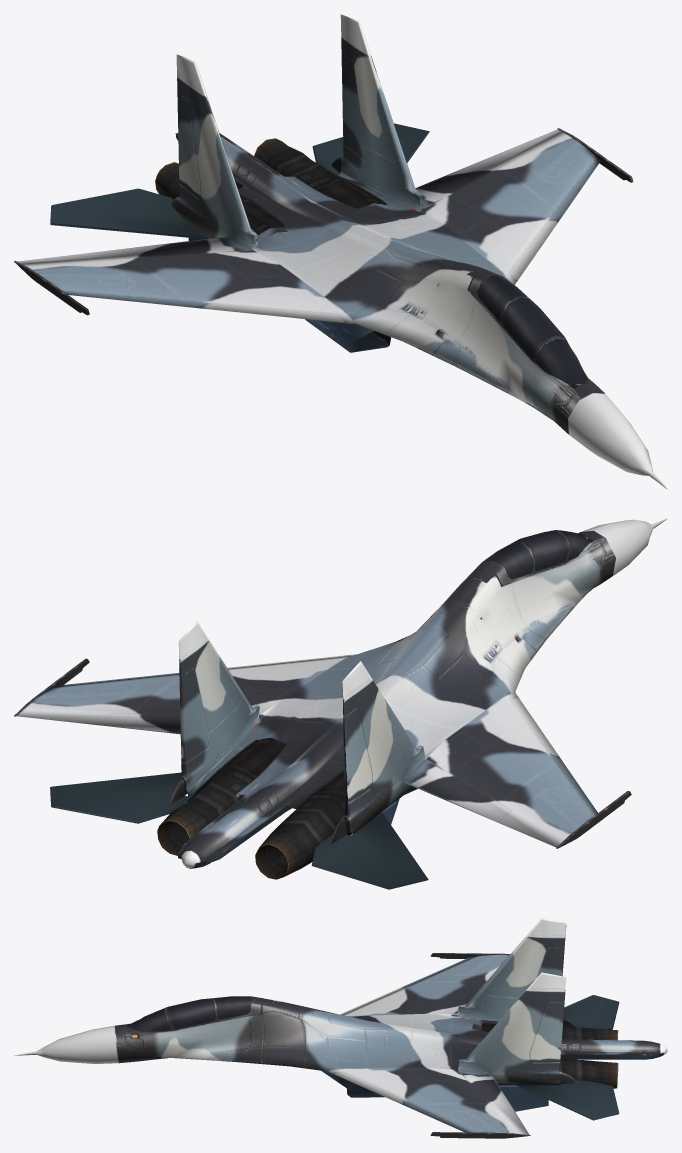
Rendered from BH_Vehicle_Su-30_Nga.fbx.
3 views of the same model, one above another, from view 1: azimuth 30°, elevation 25°; view 2: azimuth 150°, elevation 25°; view 3: azimuth 270°, elevation 25° (orthographic). The views are drawn at different scales.
Parts seen in each view (by area): view 1: Body; view 2: Body; view 3: Body.
Boxes of the visible parts, x1,y1,x2,y2 form: Body: (14,14,667,489); Body: (14,518,667,889); Body: (14,918,667,1138).
Bounding box in the file's own units: 1146 × 411 × 1760.
